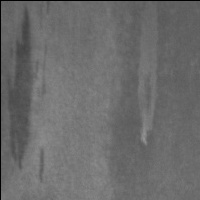inclusion: (3, 3, 38, 172), (34, 141, 51, 185)
